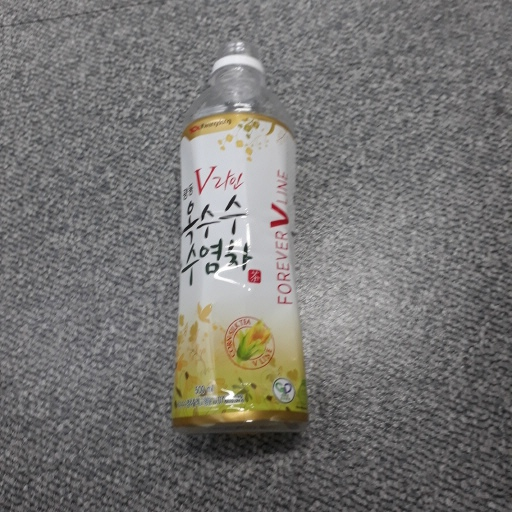Plastic_0: (169, 37, 308, 432)
